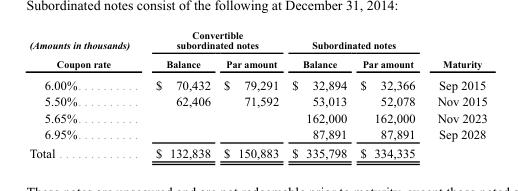table: (28, 28, 486, 159)
table column: (28, 28, 142, 159), (142, 28, 216, 159), (352, 28, 425, 159), (216, 28, 284, 159), (284, 28, 352, 159), (425, 28, 486, 159)
table column header: (28, 28, 486, 73)
table row: (28, 28, 486, 53), (28, 53, 486, 73), (28, 73, 486, 92), (28, 125, 486, 143), (28, 92, 486, 109), (28, 109, 486, 125), (28, 143, 486, 159)
table spanning cell: (28, 28, 142, 73), (142, 28, 284, 53), (284, 28, 425, 53), (425, 28, 486, 73)
